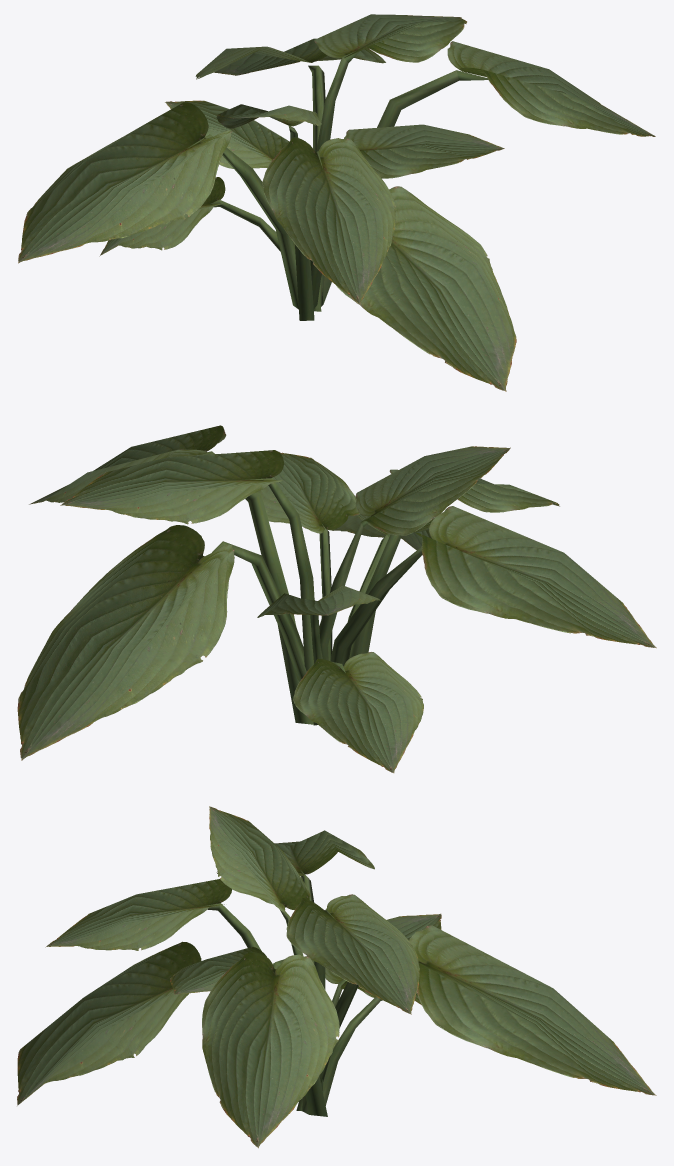
The model's file is Plant-2.fbx.
3 views of the same model, one above another, from view 1: azimuth 30°, elevation 25°; view 2: azimuth 150°, elevation 25°; view 3: azimuth 270°, elevation 25° (orthographic). The views are drawn at different scales.
Visible parts, largest first — view 1: small_plant_01; view 2: small_plant_01; view 3: small_plant_01.
Boxes of the visible parts, box(x1,y1,x2,y2) form: small_plant_01: box(18, 14, 655, 391); small_plant_01: box(17, 425, 656, 773); small_plant_01: box(17, 806, 656, 1148).
Bounding box in the file's own units: 1.99 × 0.7813 × 1.88.
